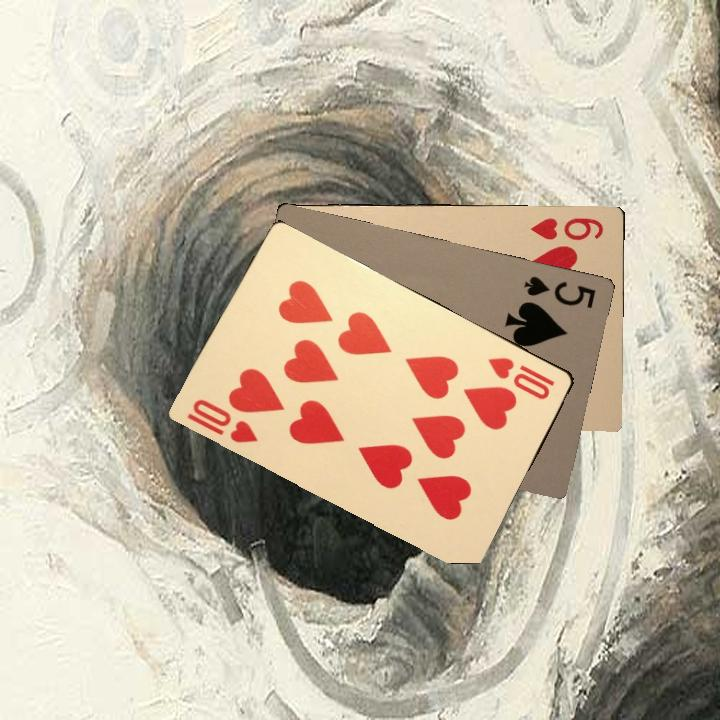10h: (183, 395, 260, 446), (483, 353, 557, 403)
5s: (520, 272, 598, 311)
6h: (531, 213, 606, 243)
